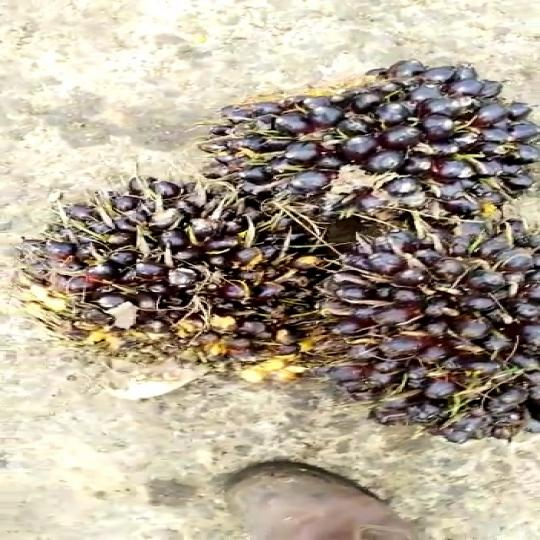mentah: (0, 163, 352, 400), (174, 53, 531, 230), (308, 209, 540, 464)
